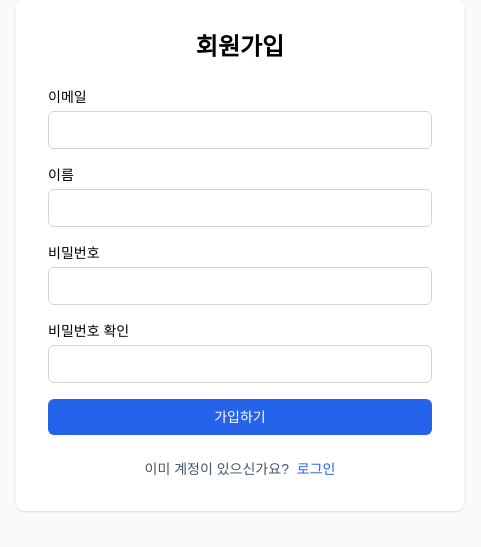
RegisterView › 409 응답 시 duplicate 오류 메시지를 표시한다
This screenshot has width=481, height=547.
Type "dup@example.com" into the field with id "reg-email" at (240,130), box left=48, top=111, right=432, bottom=149
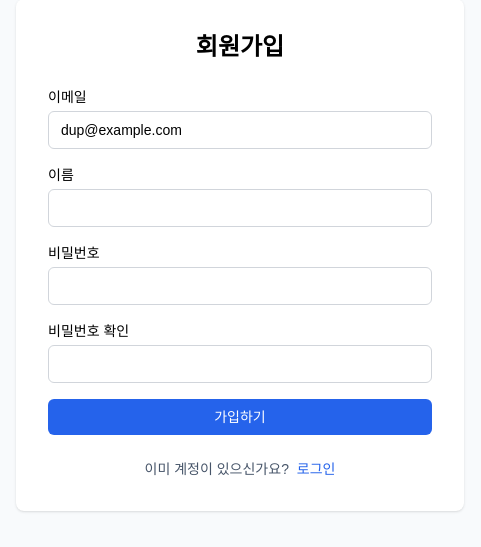
Type "홍길동" into the field with id "reg-name" at (240,208), box left=48, top=189, right=432, bottom=227
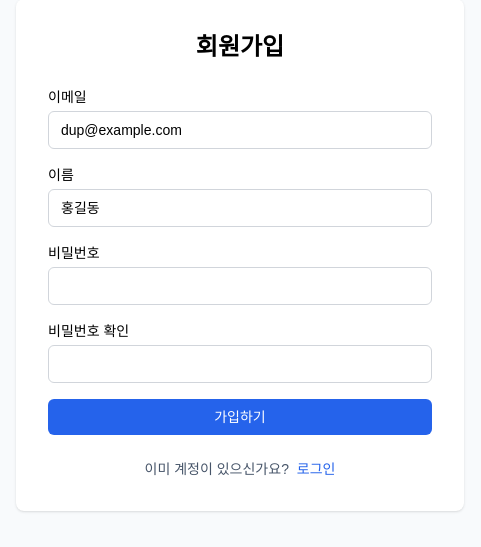
Type "password123" into the password field with id "reg-password" at (240,286), box left=48, top=267, right=432, bottom=305
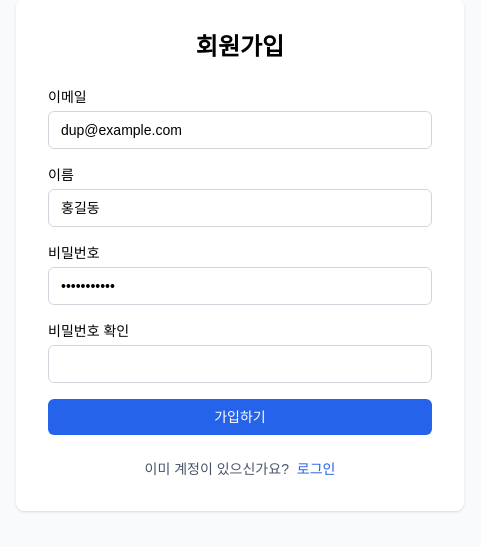
Type "password123" into the password field with id "reg-password-confirm" at (240,364), box left=48, top=345, right=432, bottom=383
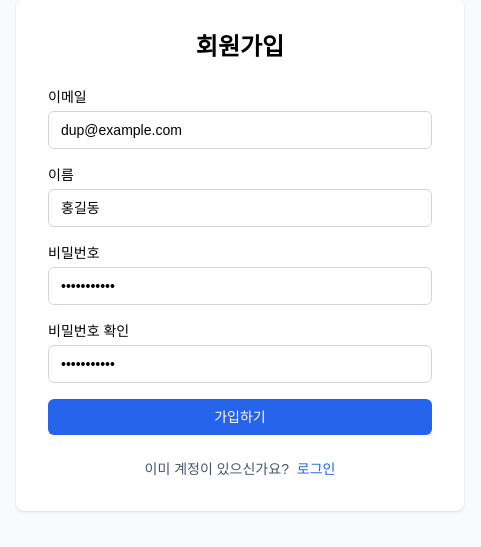
Submit the form, box left=48, top=87, right=432, bottom=435
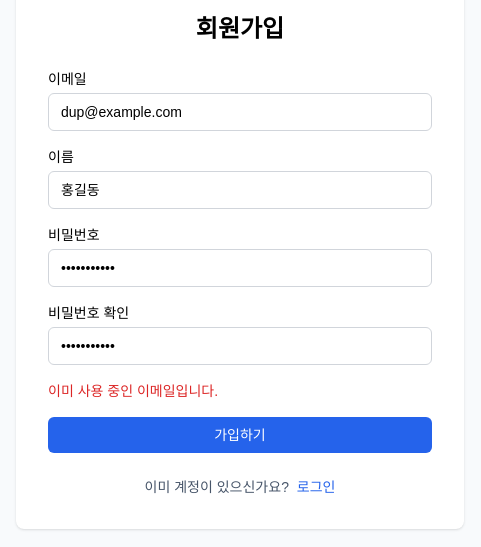
Expected: the message "이미 사용 중인 이메일입니다." is shown, left=48, top=383, right=218, bottom=399
